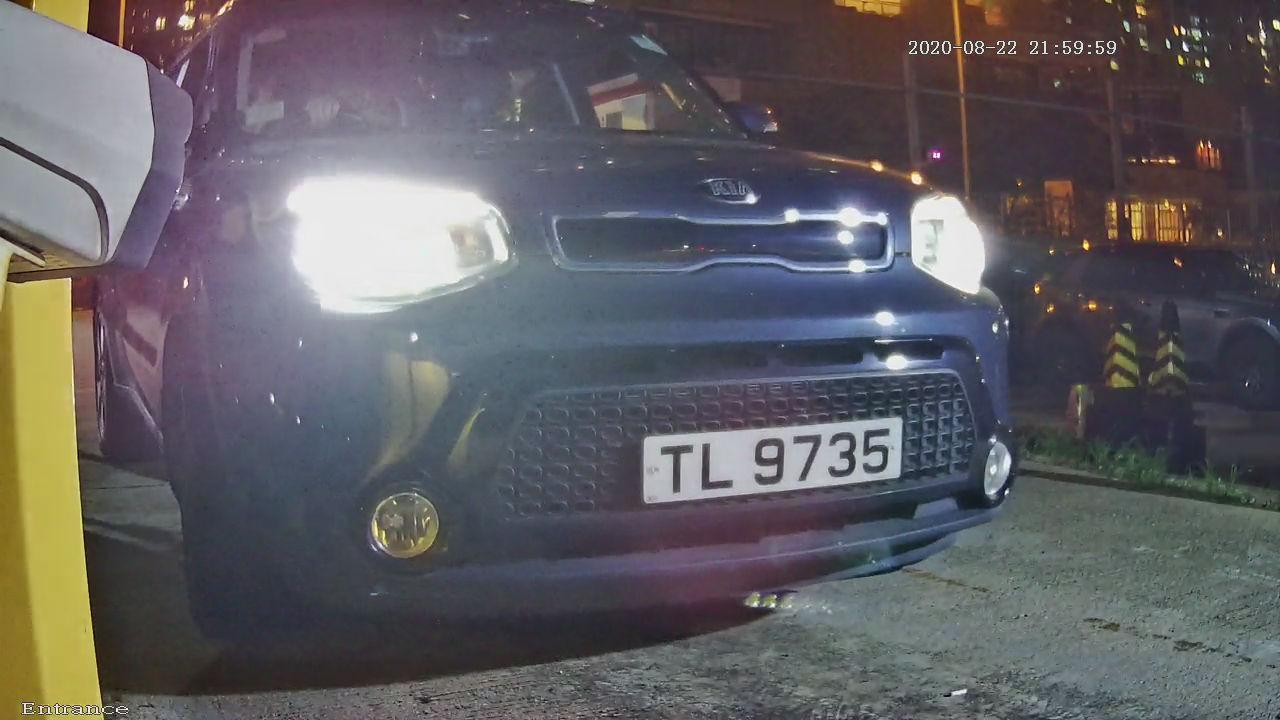Car: (46, 10, 1109, 666)
License Plate: (629, 406, 921, 512)
